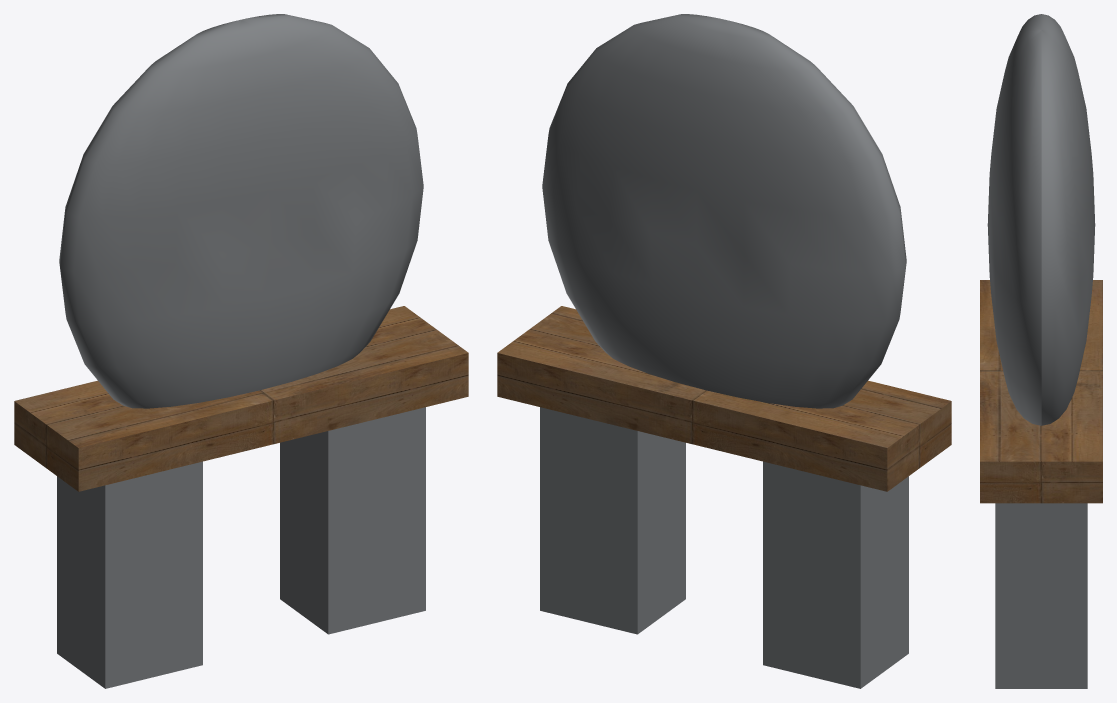
File: armadura.glb
3 renders of one model, left to right at view 1: azimuth 30°, elevation 25°; view 2: azimuth 150°, elevation 25°; view 3: azimuth 270°, elevation 25°, orthographic. The views are drawn at different scales.
Parts seen in each view (by area): view 1: Peitoral sem figura humana, Cinturão, Greva, Greva.001; view 2: Peitoral sem figura humana, Cinturão, Greva, Greva.001; view 3: Peitoral sem figura humana, Greva.001, Cinturão.
Part boxes in pixels (box(x1,y1,x2,y2)): Peitoral sem figura humana: box(59, 14, 423, 408); Cinturão: box(14, 306, 468, 491); Greva: box(57, 461, 202, 688); Greva.001: box(280, 407, 425, 634); Peitoral sem figura humana: box(542, 14, 906, 408); Cinturão: box(497, 306, 951, 491); Greva: box(763, 461, 908, 688); Greva.001: box(540, 407, 685, 634); Peitoral sem figura humana: box(987, 14, 1095, 425); Greva.001: box(995, 503, 1087, 688); Cinturão: box(980, 280, 1102, 503).
Bounding box in the file's own units: 1.4 × 2.1 × 0.4.
Materials: 2 (1 with a texture image).
